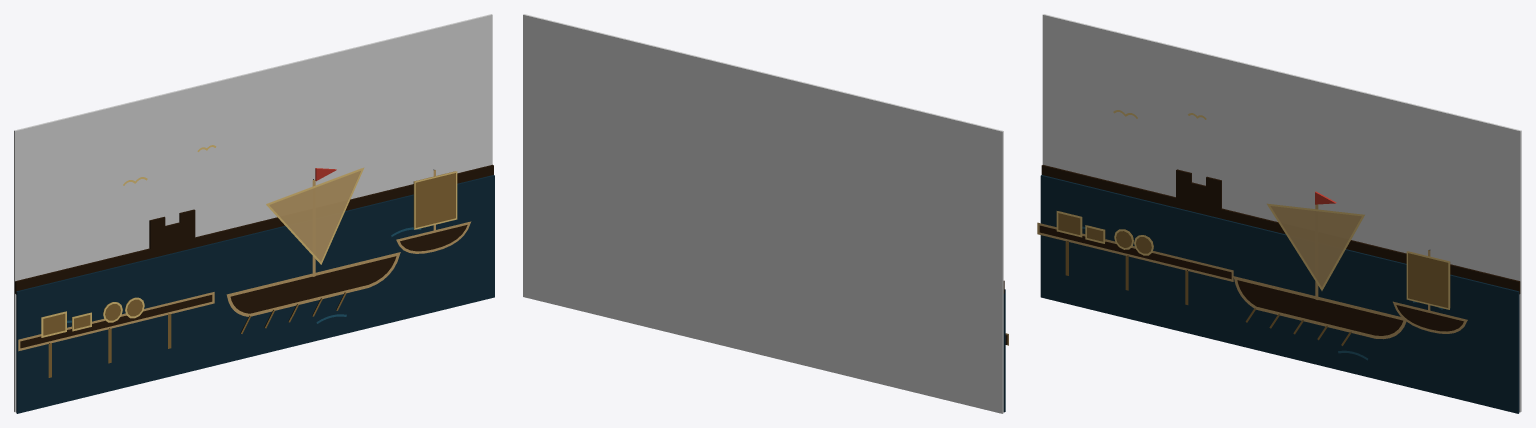
File: loc-port-tana.glb
3 renders of one model, left to right at view 1: azimuth 30°, elevation 25°; view 2: azimuth 150°, elevation 25°; view 3: azimuth 330°, elevation 25°, orthographic.
Parts seen in each view (by area): view 1: loc-port-tana; view 2: loc-port-tana; view 3: loc-port-tana.
Part boxes in pixels (x1,y1,x2,y2): loc-port-tana: (14, 14, 494, 413); loc-port-tana: (523, 14, 1008, 413); loc-port-tana: (1037, 14, 1521, 413).
Size of the model in its own units: 5.35 by 3 by 0.381.
